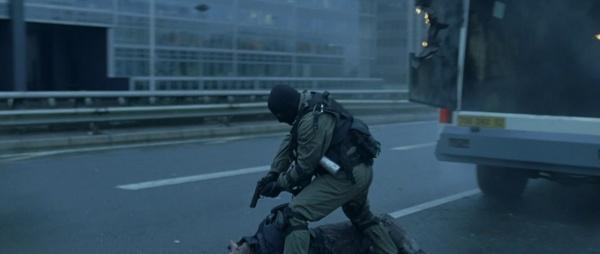Gun: (250, 179, 265, 208)
